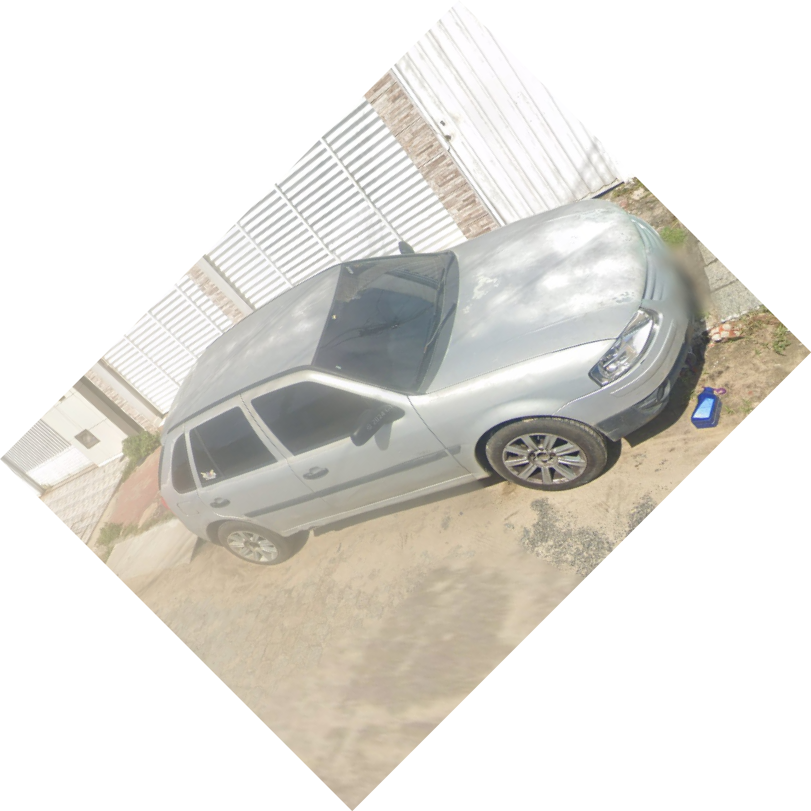car: (162, 202, 689, 571)
